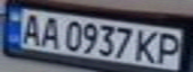0: (60, 18, 84, 53)
3: (97, 23, 118, 57)
7: (112, 25, 136, 61)
9: (78, 20, 100, 55)
A: (15, 10, 45, 46), (36, 14, 63, 48)
K: (133, 28, 163, 64)
P: (154, 30, 187, 65)
